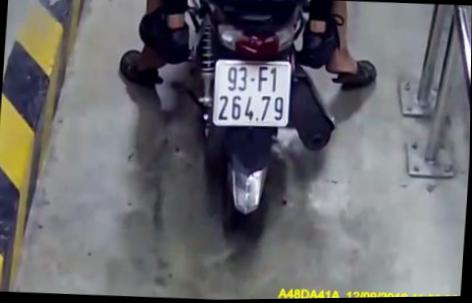LP: (211, 58, 292, 129)
